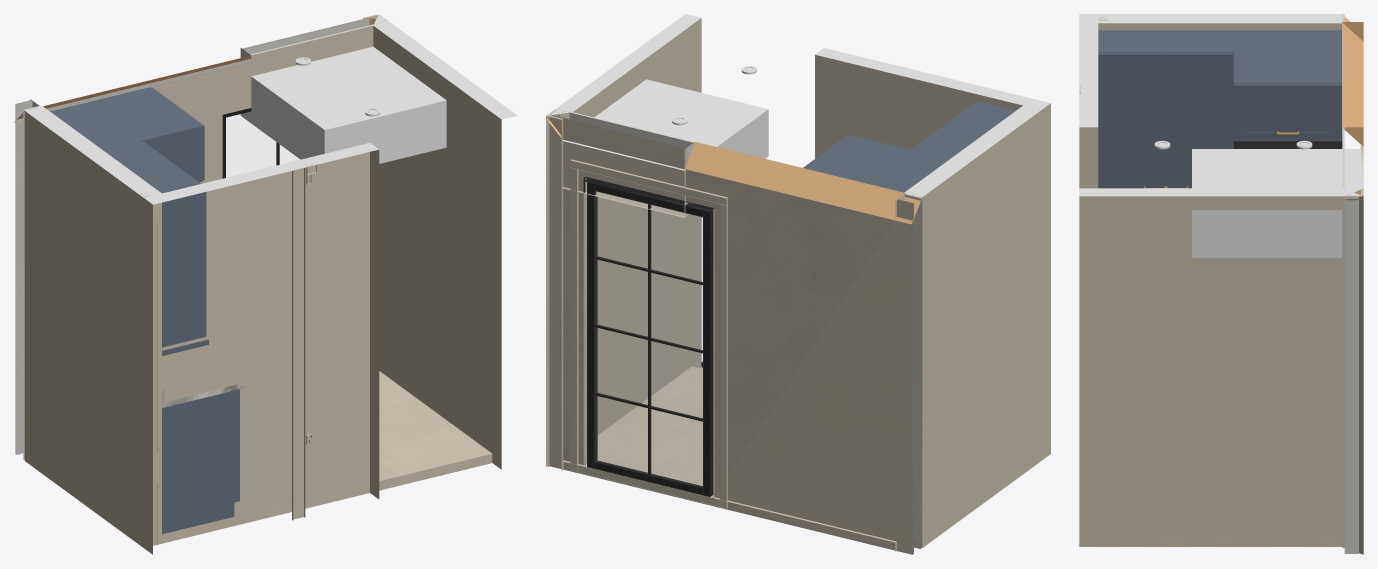
File: laundry-bd38d636d7d2.glb
The picture shows the model from 3 angles, left to right: view 1: azimuth 30°, elevation 25°; view 2: azimuth 150°, elevation 25°; view 3: azimuth 270°, elevation 25°; orthographic projection. The views are drawn at different scales.
Visible parts, largest first — view 1: laundry-8d8280a2b3ef8b4c, laundry-4fe5579be934d30a, laundry-7f59123d155b94ce, laundry-6cbc44f63f815149, laundry-3d7dc14daaac73cc, laundry-1b1650778d28d58a, laundry-cdbda69d535efec9, laundry-82fe871d7bda5383, laundry-684a2ef253b4909e, laundry-64efeecf845bccca, laundry-9a6873bb27e0e1d8, laundry-09f90213aa0a4493 (+4 smaller); view 2: laundry-bd62734a7bc60eb7, laundry-ca9c0b57f88e5741, laundry-4fe5579be934d30a, laundry-09f90213aa0a4493, laundry-7f59123d155b94ce, laundry-8d8280a2b3ef8b4c, laundry-6cbc44f63f815149, laundry-1b1650778d28d58a, laundry-9373e00609a5f856, laundry-341dc20a3e1bcc67, laundry-684a2ef253b4909e, laundry-9a6873bb27e0e1d8 (+3 smaller); view 3: laundry-7f59123d155b94ce, laundry-cdbda69d535efec9, laundry-6cbc44f63f815149, laundry-684a2ef253b4909e, laundry-9a6873bb27e0e1d8, laundry-4fe5579be934d30a, laundry-8d8280a2b3ef8b4c, laundry-1b1650778d28d58a, laundry-341dc20a3e1bcc67, laundry-82fe871d7bda5383, laundry-68ffb35c303c8d09.
Boxes of the visible parts, <box> form: laundry-8d8280a2b3ef8b4c: <box>143,143,379,554</box>; laundry-4fe5579be934d30a: <box>24,106,161,547</box>; laundry-7f59123d155b94ce: <box>373,14,517,469</box>; laundry-6cbc44f63f815149: <box>240,46,446,163</box>; laundry-3d7dc14daaac73cc: <box>162,389,239,534</box>; laundry-1b1650778d28d58a: <box>160,371,492,543</box>; laundry-cdbda69d535efec9: <box>103,141,208,355</box>; laundry-82fe871d7bda5383: <box>23,24,374,311</box>; laundry-684a2ef253b4909e: <box>50,87,204,182</box>; laundry-64efeecf845bccca: <box>292,167,305,520</box>; laundry-9a6873bb27e0e1d8: <box>16,16,385,459</box>; laundry-09f90213aa0a4493: <box>222,108,299,178</box>; laundry-bd62734a7bc60eb7: <box>548,115,912,554</box>; laundry-ca9c0b57f88e5741: <box>549,115,913,554</box>; laundry-4fe5579be934d30a: <box>904,105,1041,547</box>; laundry-09f90213aa0a4493: <box>583,176,714,496</box>; laundry-7f59123d155b94ce: <box>546,14,701,466</box>; laundry-8d8280a2b3ef8b4c: <box>815,48,1050,460</box>; laundry-6cbc44f63f815149: <box>562,79,768,217</box>; laundry-1b1650778d28d58a: <box>562,366,896,551</box>; laundry-9373e00609a5f856: <box>570,159,727,508</box>; laundry-341dc20a3e1bcc67: <box>684,141,905,220</box>; laundry-684a2ef253b4909e: <box>803,135,949,192</box>; laundry-9a6873bb27e0e1d8: <box>549,109,920,553</box>; laundry-7f59123d155b94ce: <box>1079,188,1363,554</box>; laundry-cdbda69d535efec9: <box>1098,30,1233,188</box>; laundry-6cbc44f63f815149: <box>1192,149,1363,258</box>; laundry-684a2ef253b4909e: <box>1233,30,1342,141</box>; laundry-9a6873bb27e0e1d8: <box>1344,195,1358,553</box>; laundry-4fe5579be934d30a: <box>1098,14,1342,30</box>; laundry-8d8280a2b3ef8b4c: <box>1079,14,1098,188</box>; laundry-1b1650778d28d58a: <box>1098,537,1342,546</box>; laundry-341dc20a3e1bcc67: <box>1342,22,1363,146</box>; laundry-82fe871d7bda5383: <box>1342,14,1344,547</box>; laundry-68ffb35c303c8d09: <box>1233,141,1342,148</box>.
Bounding box in the file's own units: 2.72 × 2.5 × 1.8.
Materials: 26 (3 with a texture image).
